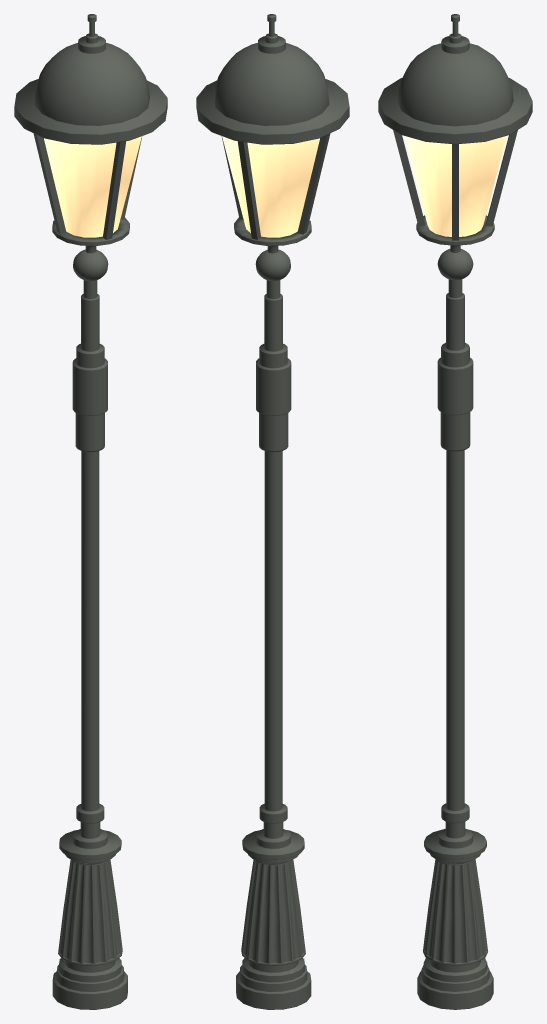
The model's file is street_light.glb.
3 renders of one model, left to right at view 1: azimuth 30°, elevation 25°; view 2: azimuth 150°, elevation 25°; view 3: azimuth 270°, elevation 25°, orthographic.
Visible parts, largest first — view 1: Circle_3; view 2: Circle_3; view 3: Circle_3.
Boxes of the visible parts, left/top/right/bottom form: Circle_3: left=14, top=14, right=167, bottom=1009; Circle_3: left=196, top=14, right=349, bottom=1009; Circle_3: left=378, top=14, right=532, bottom=1009.
Size of the model in its own units: 0.7659 by 5.35 by 0.7659.
